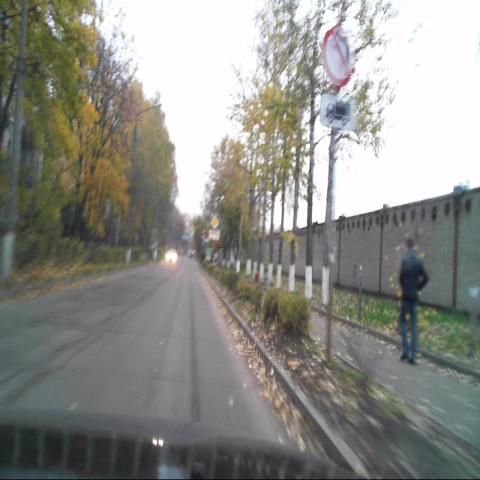3_18_2: (322, 25, 353, 87)
8_4_1: (320, 94, 356, 132)
